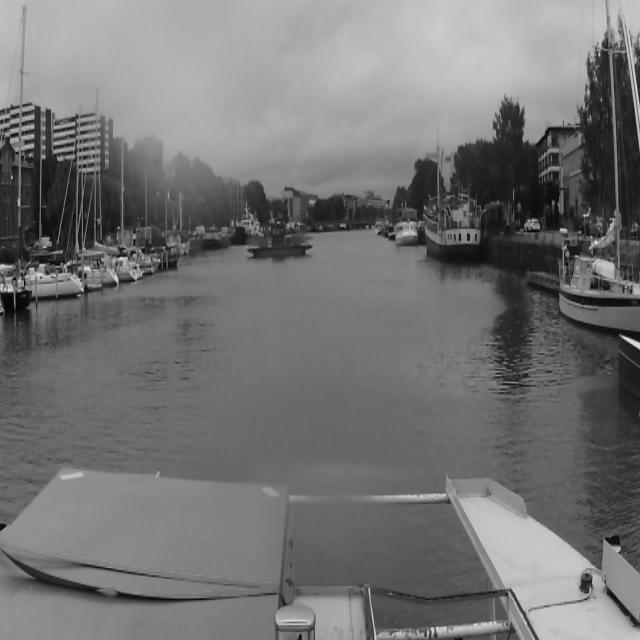ship: (560, 16, 632, 332), (4, 4, 32, 310), (70, 109, 119, 283), (424, 196, 482, 256), (247, 223, 313, 254), (233, 204, 262, 242), (396, 208, 420, 244), (204, 226, 228, 248)
